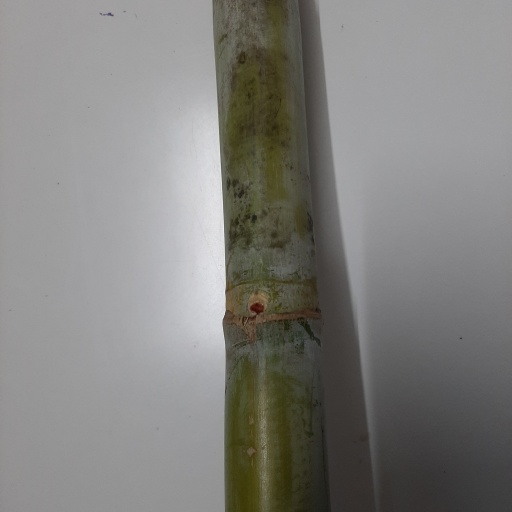Damage_Bud: (243, 289, 267, 317)
